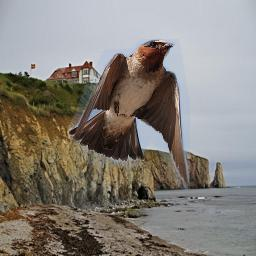Swallow: (69, 39, 190, 190)
